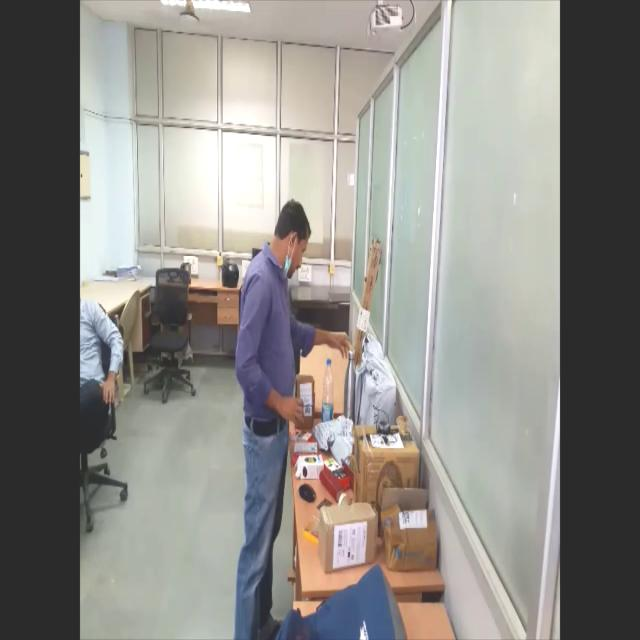normal: (214, 176, 336, 638)
